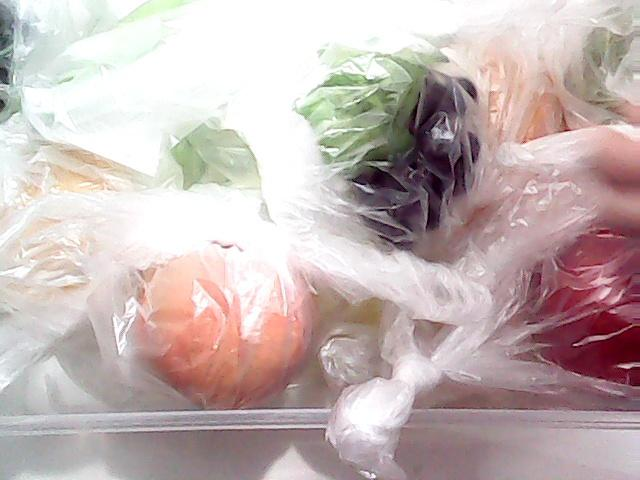apple: (499, 215, 640, 424)
grape: (270, 26, 494, 258)
lemon: (456, 24, 574, 150)
peach: (134, 227, 318, 409)
potato: (0, 142, 144, 308)
